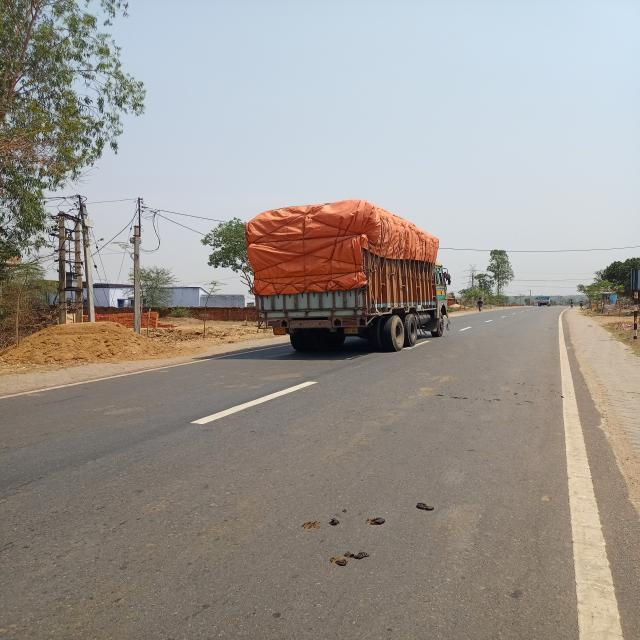truck_back: (238, 194, 454, 353)
